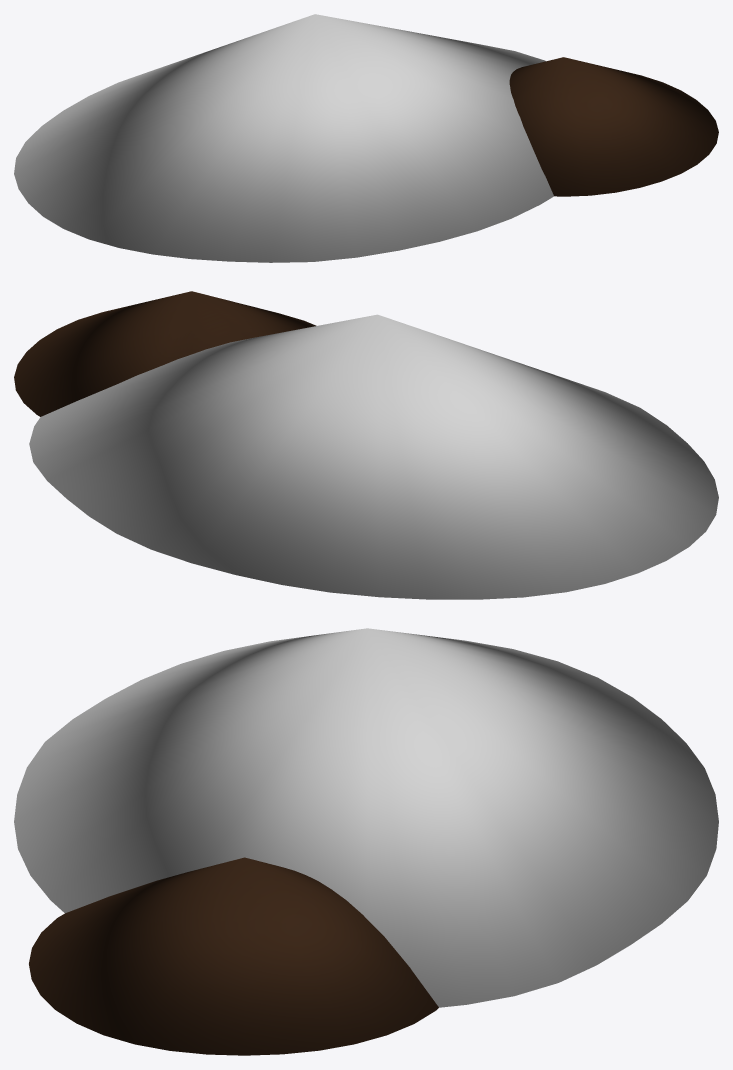
Rendered from dirt-mound.obj.
3 views of the same model, one above another, from view 1: azimuth 30°, elevation 25°; view 2: azimuth 150°, elevation 25°; view 3: azimuth 270°, elevation 25° (orthographic). The views are drawn at different scales.
Parts seen in each view (by area): view 1: dirt-mound; view 2: dirt-mound; view 3: dirt-mound.
Part boxes in pixels (<box>): dirt-mound: <box>14,14,718,262</box>; dirt-mound: <box>14,291,718,599</box>; dirt-mound: <box>14,628,718,1055</box>.
Size of the model in its own units: 1.87 by 0.4242 by 1.32.
